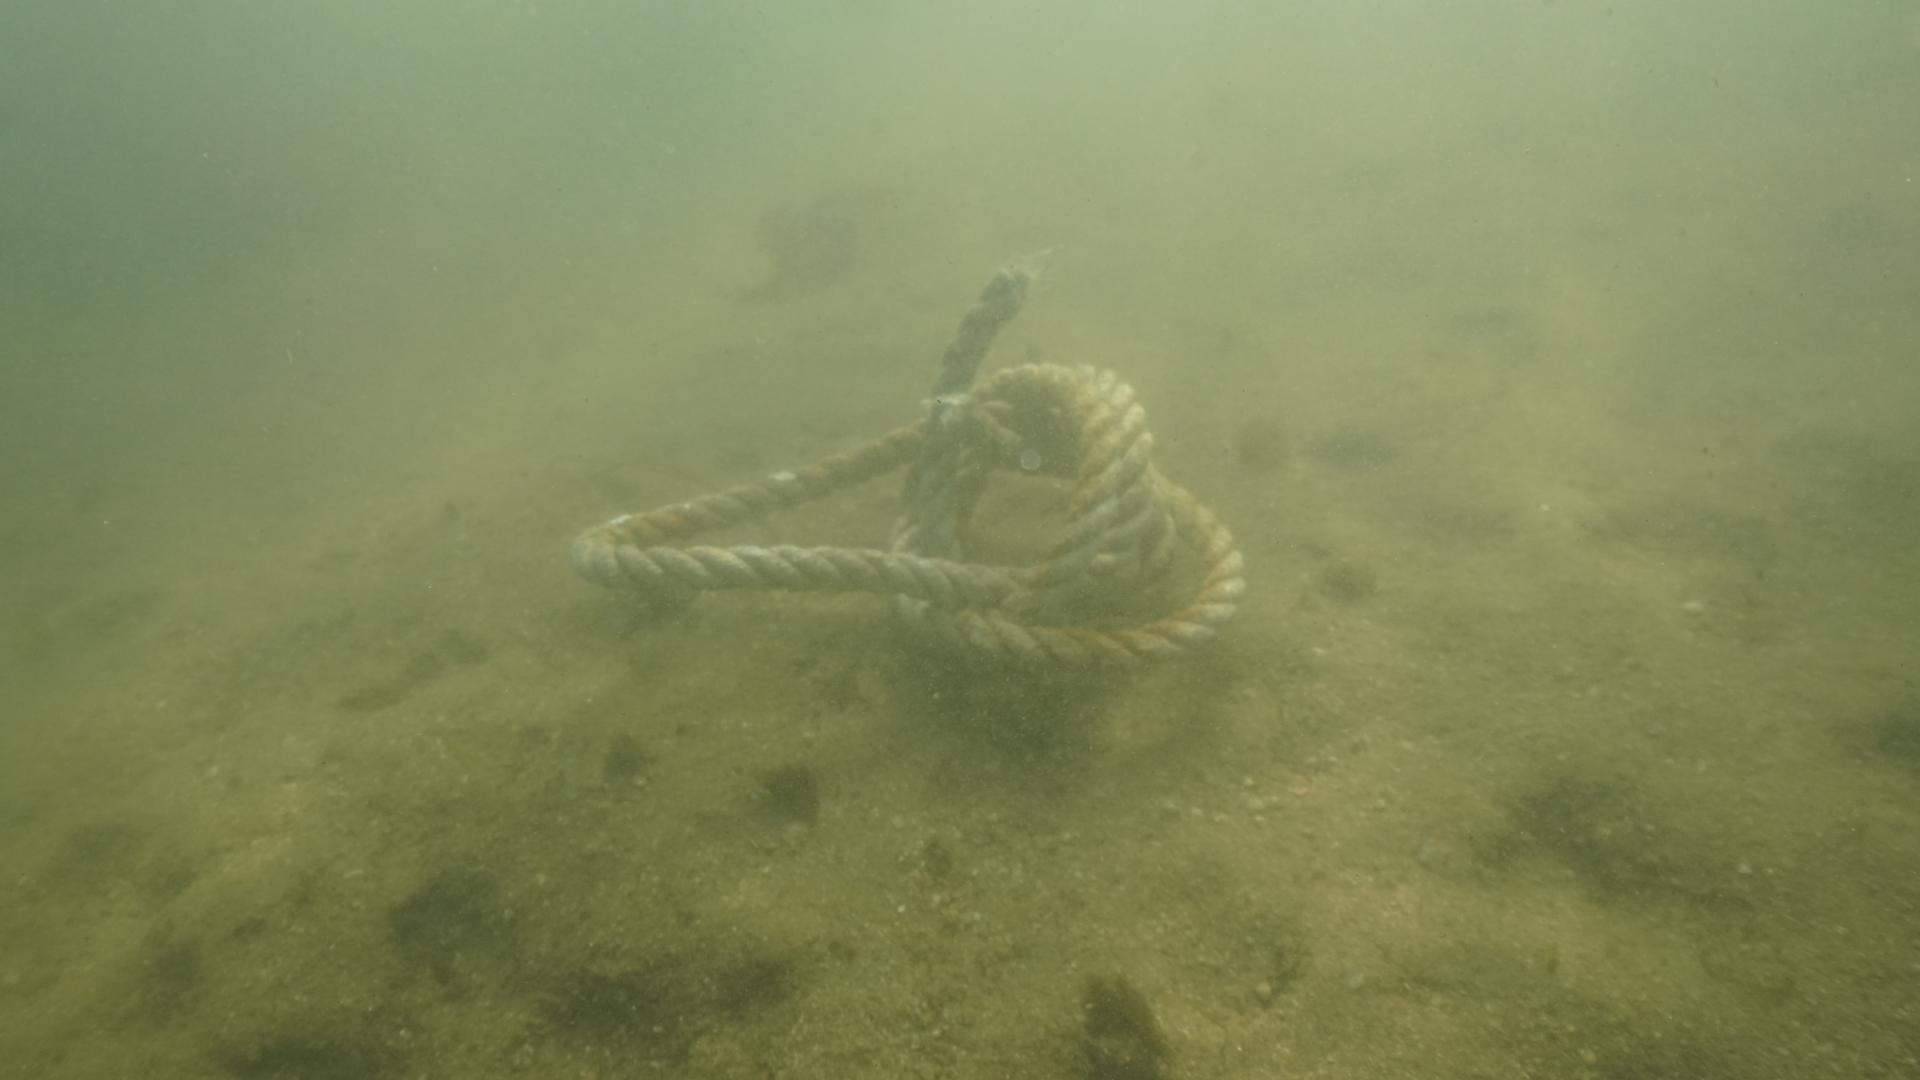bundle of ropes: (564, 297, 1247, 676)
